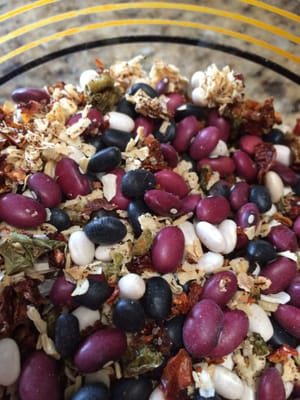sandwich: (0, 2, 299, 399)
